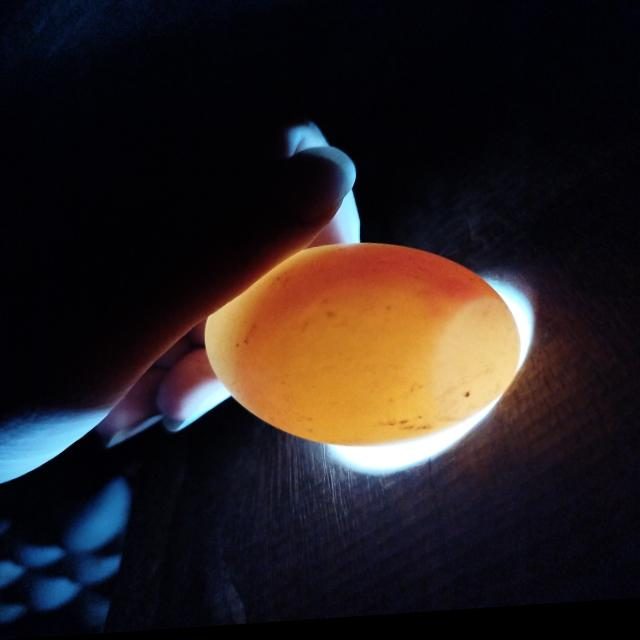Camara de Ar: (430, 304, 519, 433)
Gema Quebrada: (249, 248, 493, 342)
